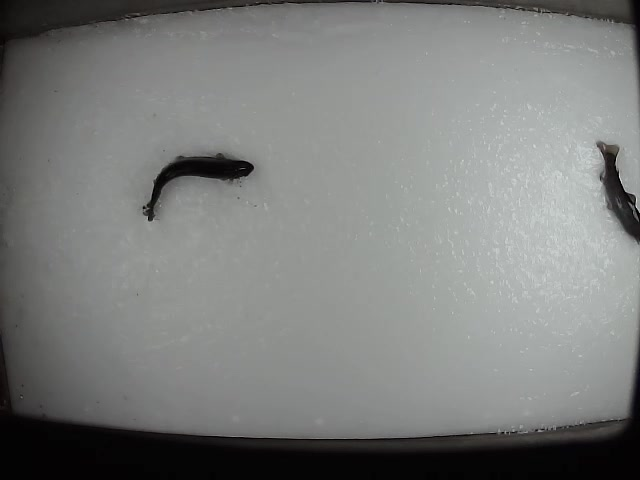Fish: (142, 151, 254, 221)
